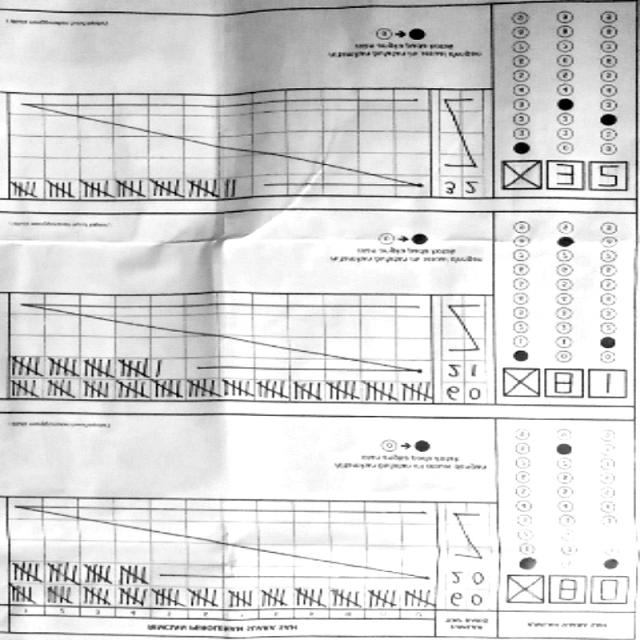Suara: (498, 366, 632, 404), (498, 158, 632, 196), (502, 572, 634, 609)
